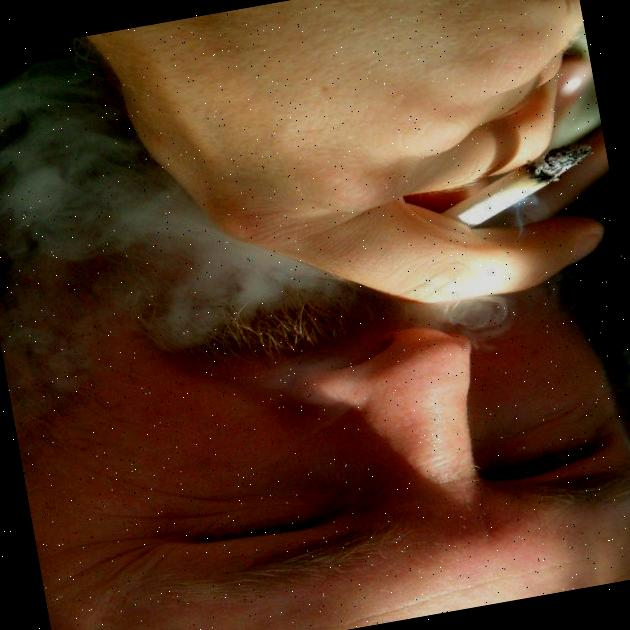smoke: (0, 50, 117, 239), (146, 241, 303, 331)
